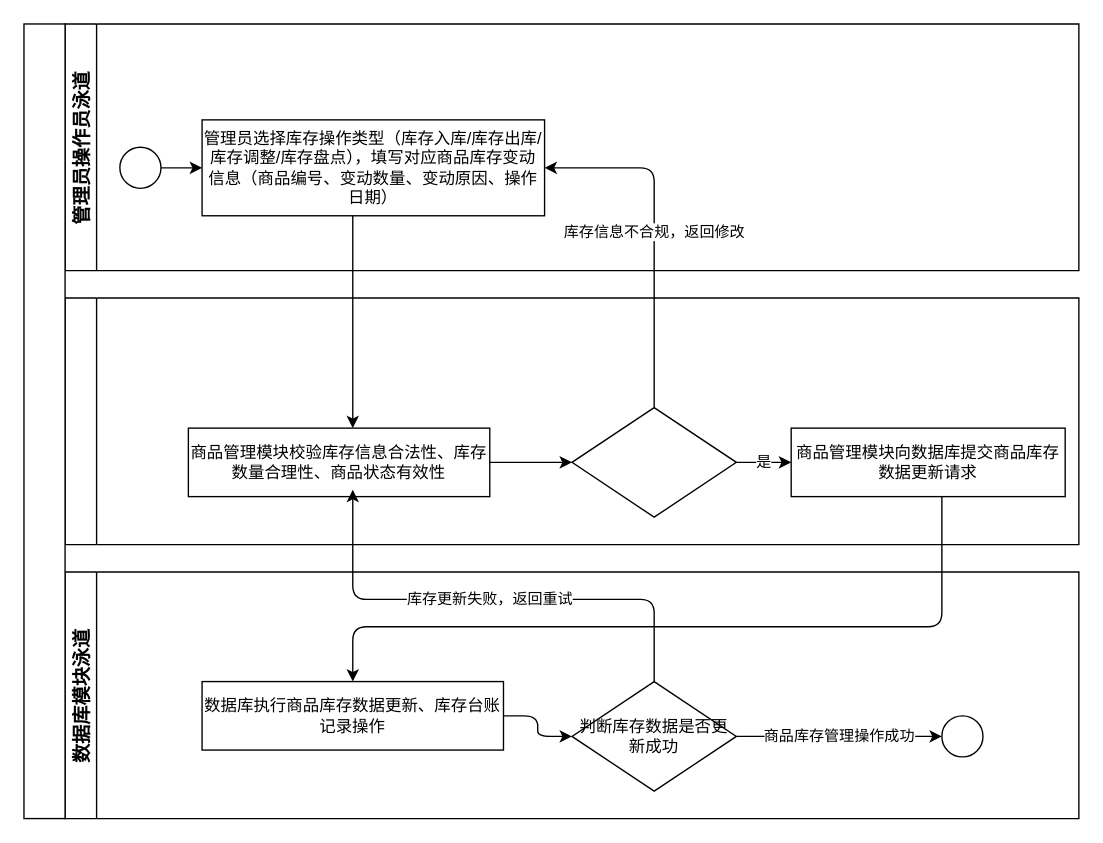
Image size: 1103x843. Some labels were removed from this diagram. Here are the shapes that lost their labels. From the top down, the box of each, then its label:
(23, 23, 65, 819): 商品库存管理 流程
(64, 297, 1079, 545): 商品管理模块泳道
(571, 406, 736, 517): 判断库存变动信息是否合规有效
